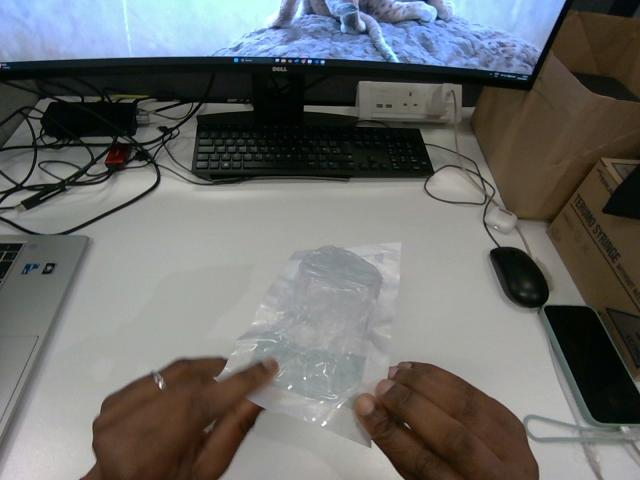gallipot: (222, 243, 400, 445)
